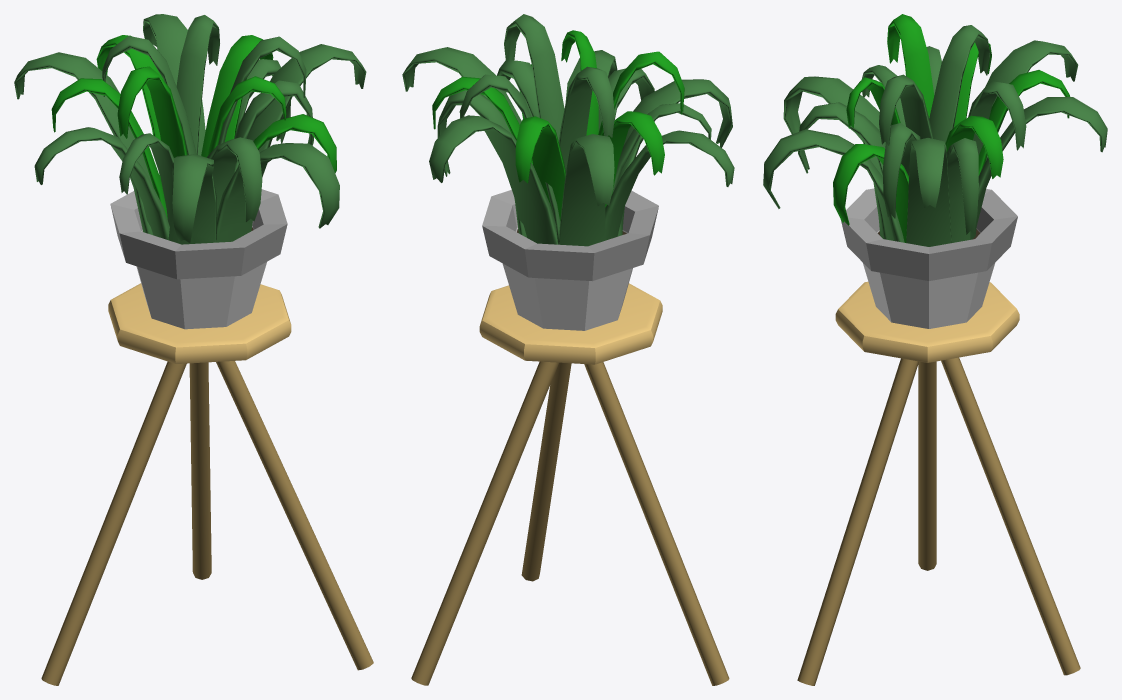
The picture shows the model from 3 angles, left to right: view 1: azimuth 30°, elevation 25°; view 2: azimuth 150°, elevation 25°; view 3: azimuth 270°, elevation 25°; orthographic projection. The views are drawn at different scales.
Parts seen in each view (by area): view 1: grass, chair_legs, planters, chair_seat; view 2: grass, chair_legs, planters, chair_seat; view 3: grass, chair_legs, planters, chair_seat.
Boxes of the visible parts, x1,y1,x2,y2 form: grass: (14, 14, 366, 244); chair_legs: (41, 361, 373, 685); planters: (110, 189, 287, 329); chair_seat: (108, 283, 291, 363); grass: (402, 14, 734, 246); chair_legs: (411, 361, 729, 685); planters: (482, 189, 658, 330); chair_seat: (479, 283, 662, 364); grass: (763, 14, 1107, 246); chair_legs: (797, 357, 1080, 685); planters: (840, 188, 1017, 328); chair_seat: (835, 281, 1019, 362).
Size of the model in its own units: 3.96 by 7.09 by 3.75.
